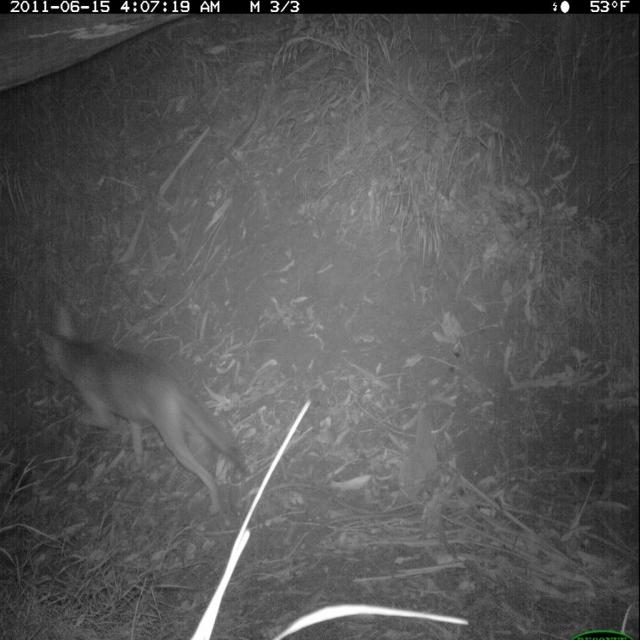coyote: (29, 297, 252, 525)
